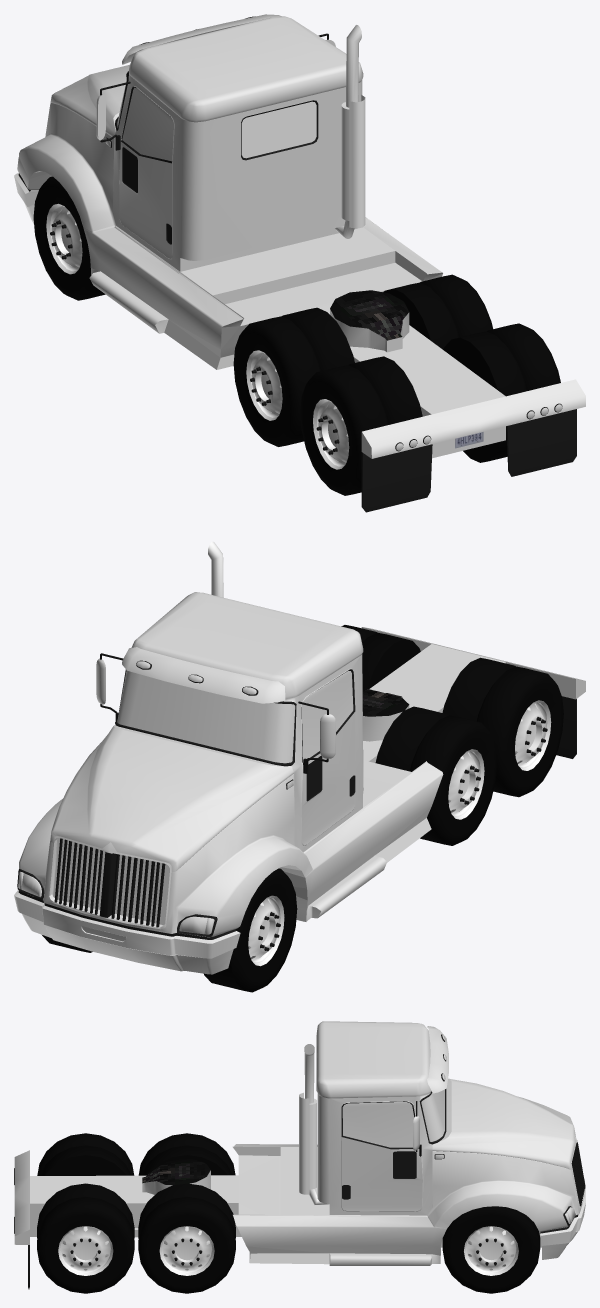
Rendered from MCLA_VA_SEMITRUCK_00_CAB.glb.
The picture shows the model from 3 angles, top to bottom: view 1: azimuth 30°, elevation 25°; view 2: azimuth 150°, elevation 25°; view 3: azimuth 270°, elevation 25°; orthographic projection. The views are drawn at different scales.
Parts seen in each view (by area): view 1: va_semitruck_00_cab/resources/vehicle/va_semitruck_00_cab/bo (×9); view 2: va_semitruck_00_cab/resources/vehicle/va_semitruck_00_cab/bo (×8); view 3: va_semitruck_00_cab/resources/vehicle/va_semitruck_00_cab/bo (×9).
Boxes of the visible parts, box(x1,y1,x2,y2) form: va_semitruck_00_cab/resources/vehicle/va_semitruck_00_cab/bo (×9): box(14, 14, 585, 512); va_semitruck_00_cab/resources/vehicle/va_semitruck_00_cab/bo (×8): box(14, 541, 585, 992); va_semitruck_00_cab/resources/vehicle/va_semitruck_00_cab/bo (×9): box(14, 1021, 585, 1293).
Size of the model in its own units: 2.5 by 3.18 by 6.84.
Materials: 11 (7 with a texture image).
